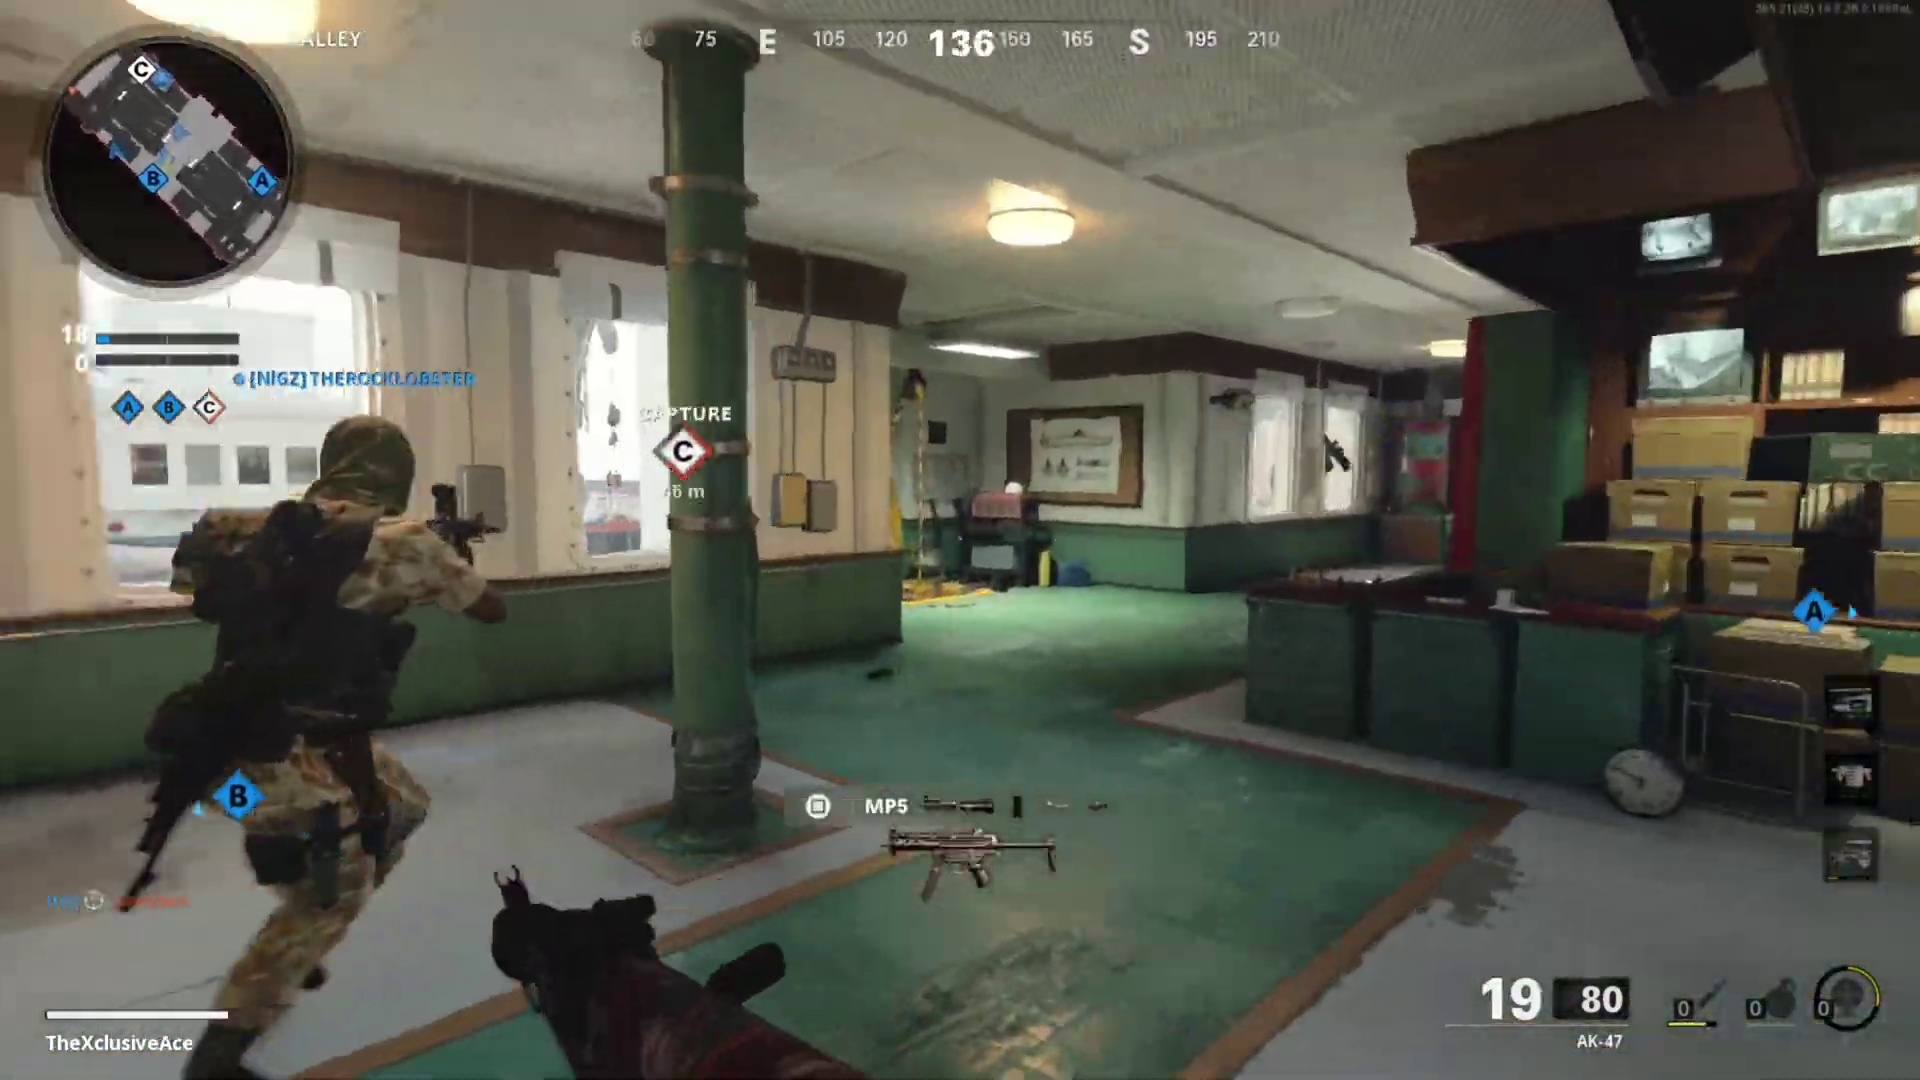head: (309, 412, 406, 532)
person: (138, 410, 498, 1038)
